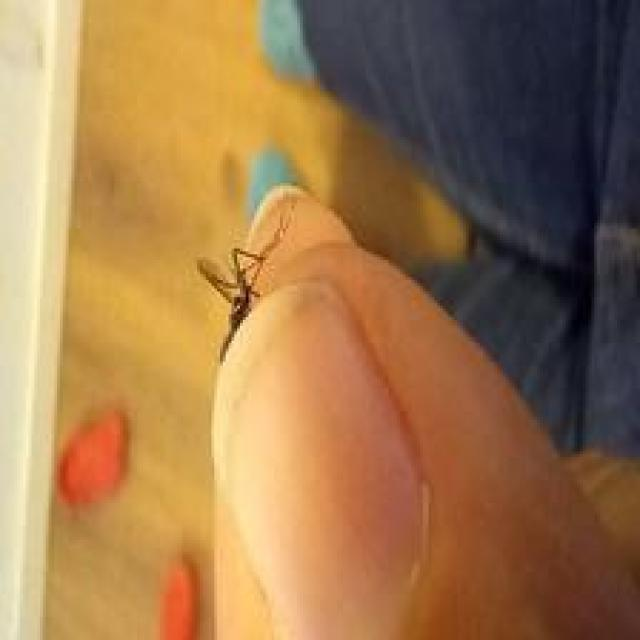Aedes albopictus: (196, 217, 290, 363)
